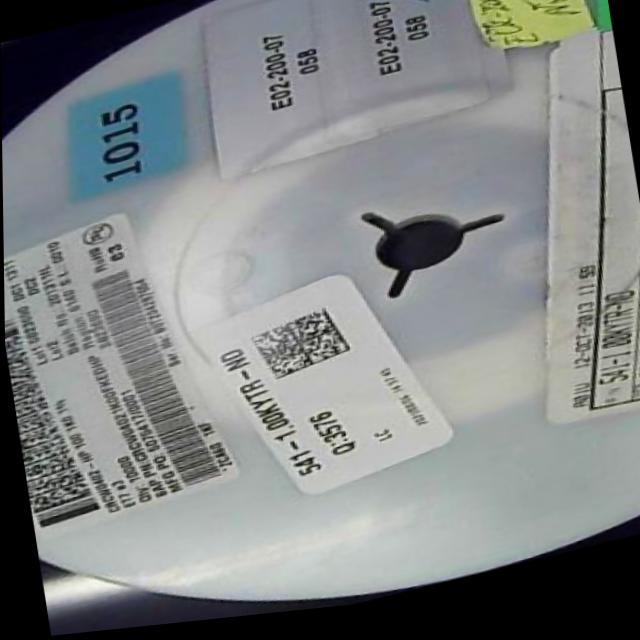datamatrix: (242, 307, 357, 393)
